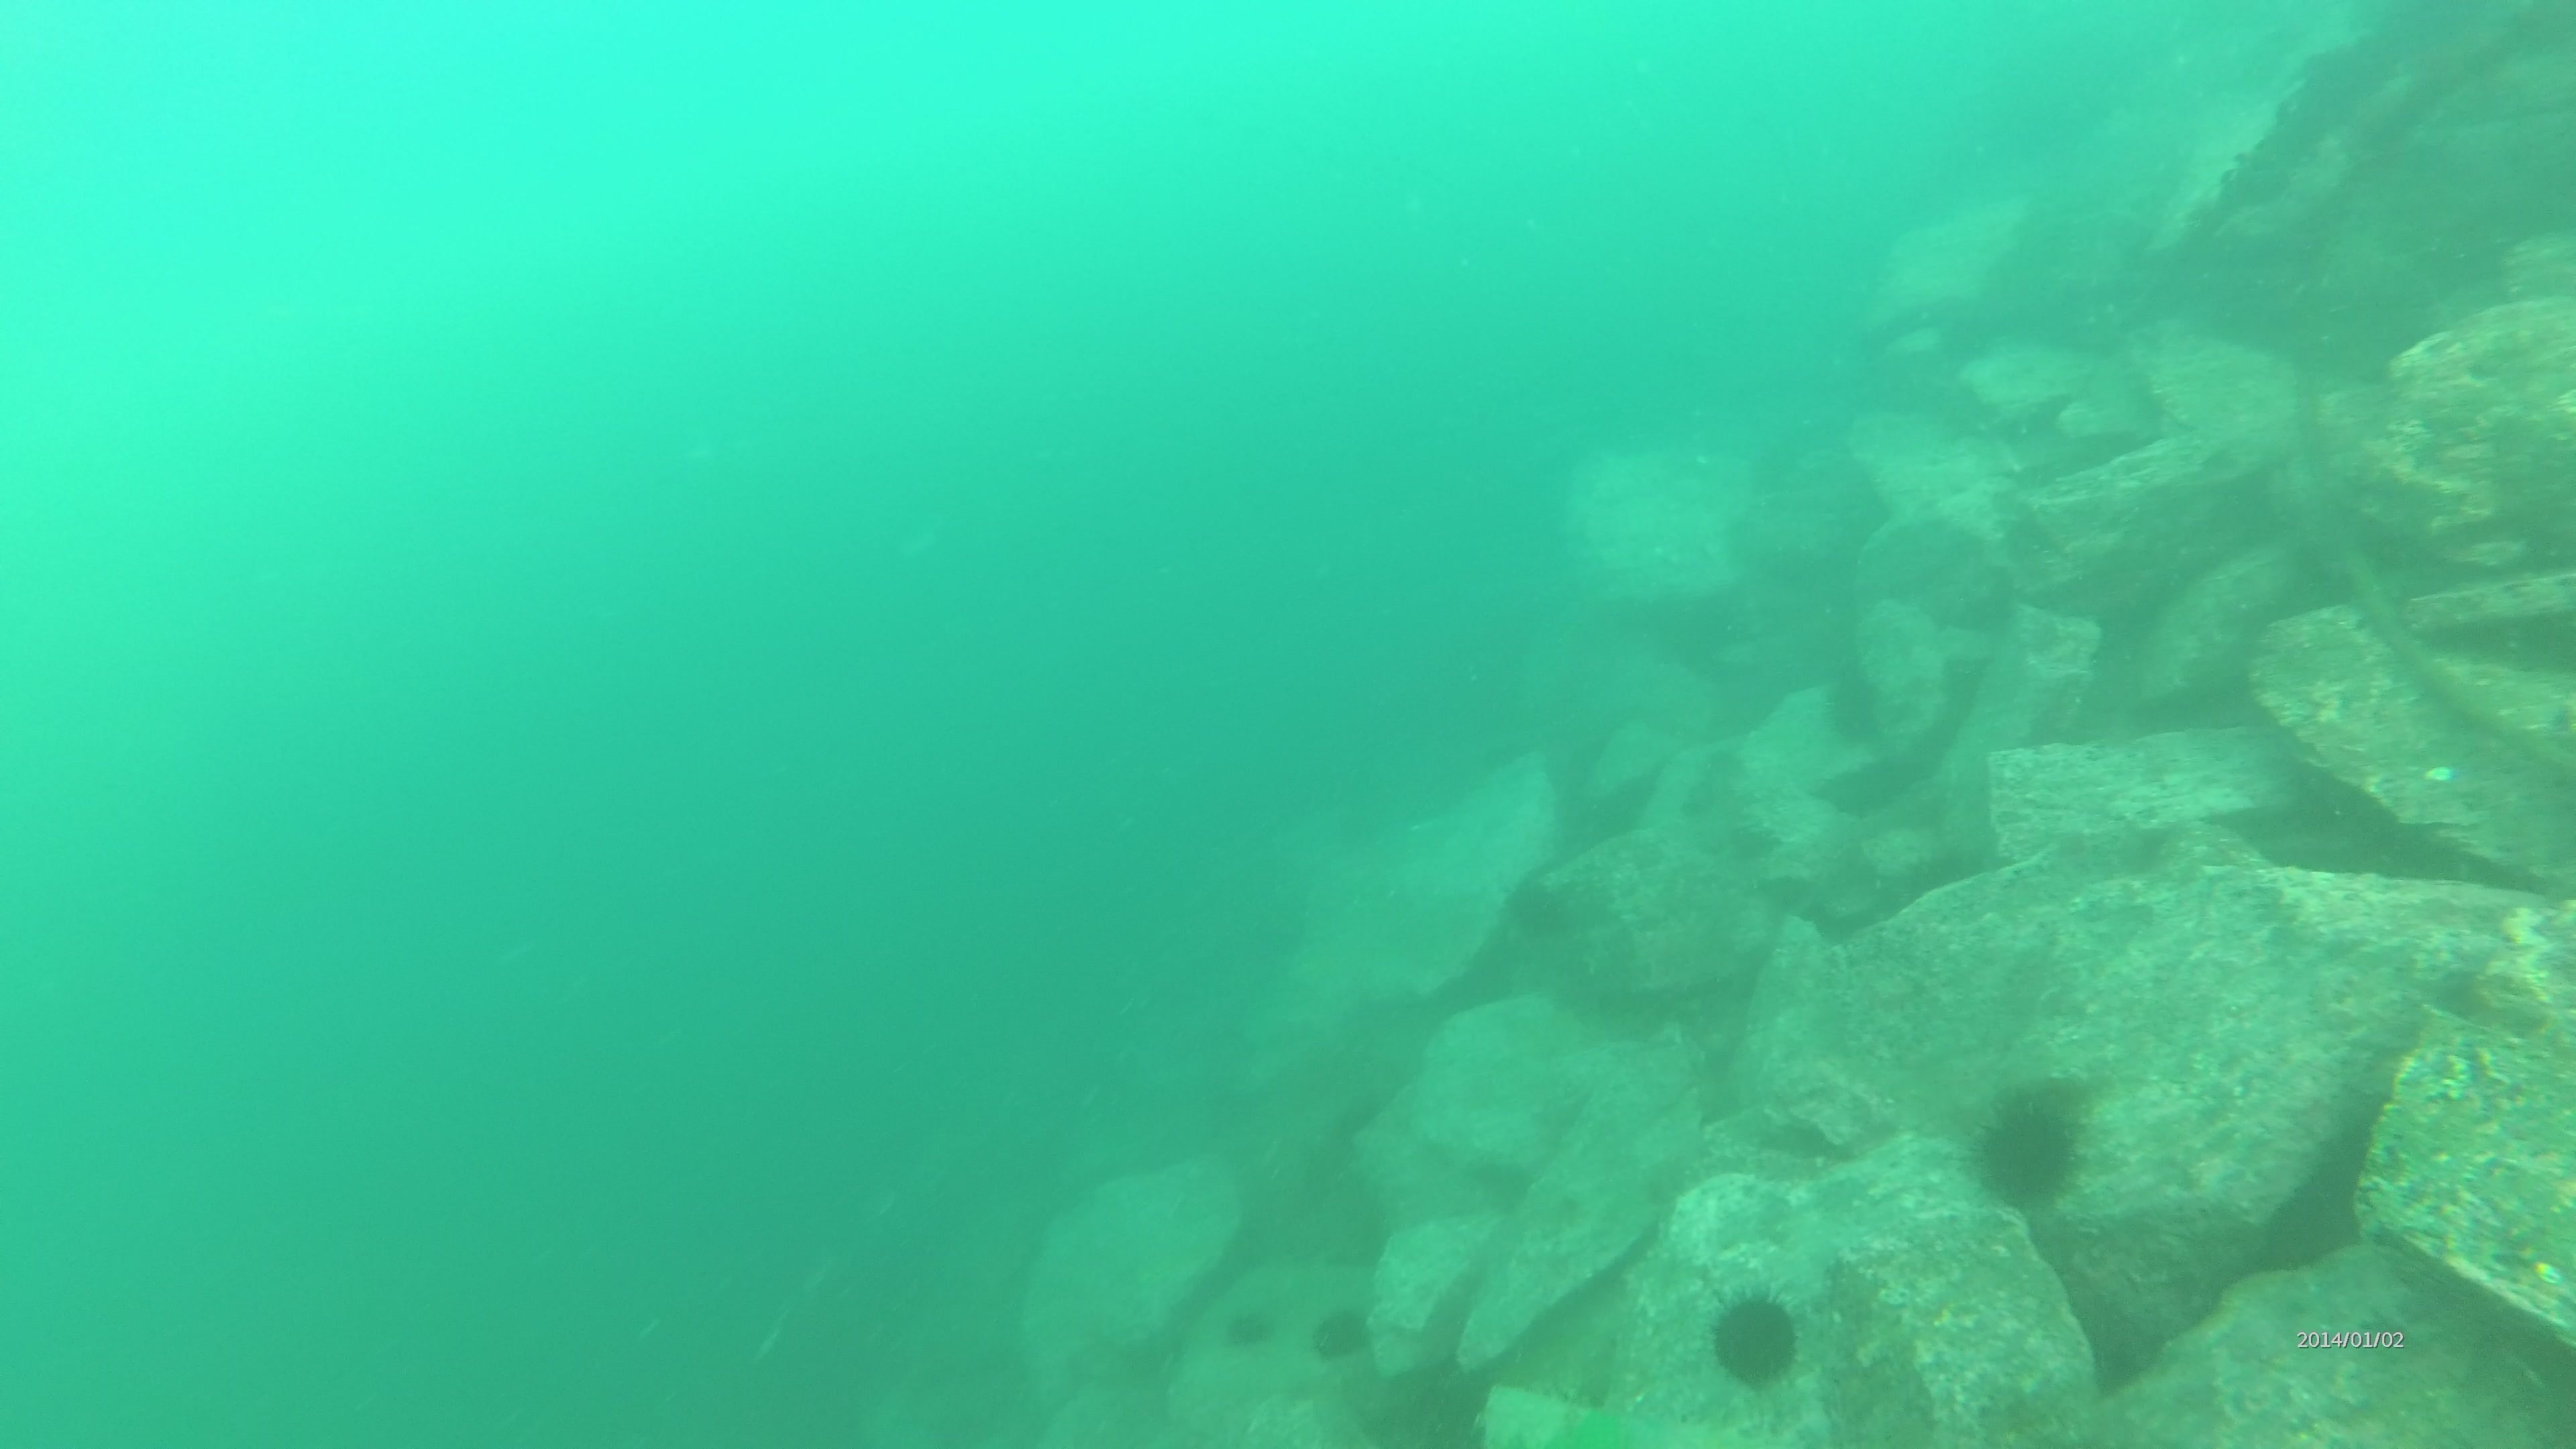echinus: (1962, 1079, 2093, 1214), (1702, 1283, 1808, 1394), (1815, 662, 1895, 750), (1306, 1299, 1378, 1368), (1219, 1299, 1277, 1355)
